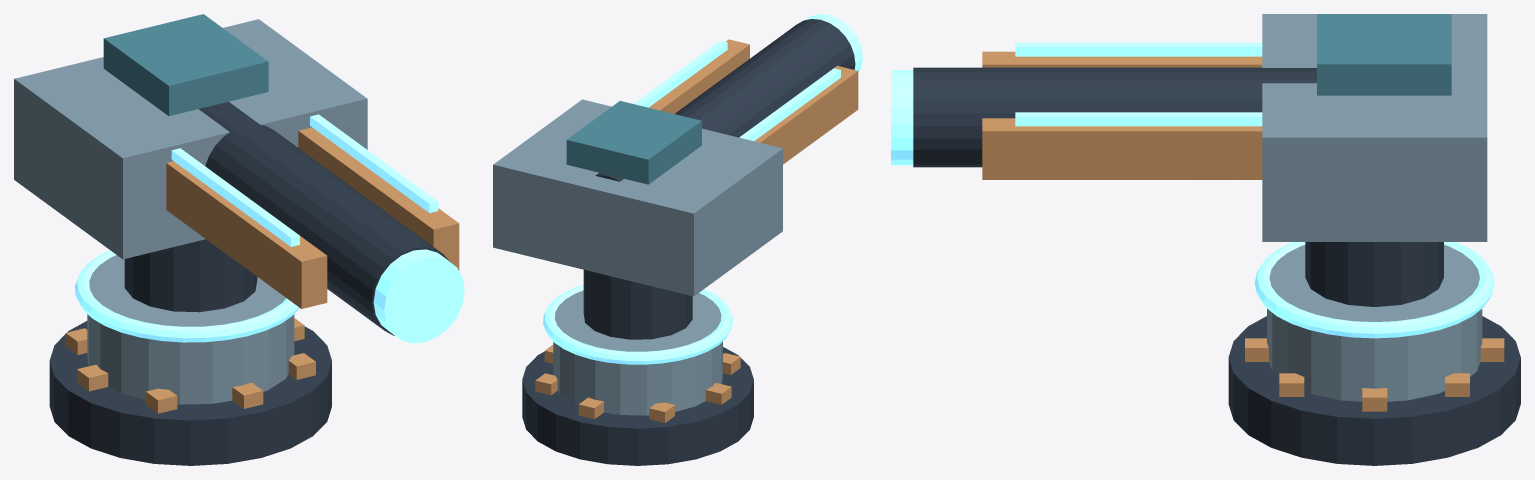
File: rail_lance.glb
The picture shows the model from 3 angles, left to right: view 1: azimuth 30°, elevation 25°; view 2: azimuth 150°, elevation 25°; view 3: azimuth 270°, elevation 25°; orthographic projection. The views are drawn at different scales.
Visible parts, largest first — view 1: Railgun heavy housing, Circular reinforced plinth, Long electromagnetic bore, Titanium center, Arc charge housing, Magnetic focusing rail, Rotating servo head, High energy muzzle, Magnetic focusing rail.001, Charged bearing, Live current, Live current.001 (+5 smaller); view 2: Railgun heavy housing, Circular reinforced plinth, Titanium center, Long electromagnetic bore, Arc charge housing, Rotating servo head, Magnetic focusing rail, Charged bearing, Magnetic focusing rail.001, Live current, Live current.001, High energy muzzle (+4 smaller); view 3: Railgun heavy housing, Long electromagnetic bore, Circular reinforced plinth, Titanium center, Magnetic focusing rail.001, Arc charge housing, Rotating servo head, Charged bearing, Live current, Live current.001, Magnetic focusing rail, High energy muzzle.
Part boxes in pixels (x1,y1,x2,y2): Railgun heavy housing: (14,19,367,259); Circular reinforced plinth: (49,321,331,465); Long electromagnetic bore: (199,101,449,335); Titanium center: (87,255,294,404); Arc charge housing: (103,14,268,115); Magnetic focusing rail: (166,161,327,308); Rotating servo head: (124,239,257,312); High energy muzzle: (373,249,464,343); Magnetic focusing rail.001: (298,127,459,270); Charged bearing: (75,250,299,342); Live current: (171,148,299,246); Live current.001: (310,114,438,212); Railgun heavy housing: (493,99,782,296); Circular reinforced plinth: (522,347,753,465); Titanium center: (553,290,722,415); Long electromagnetic bore: (595,19,855,181); Arc charge housing: (566,101,701,184); Rotating servo head: (583,270,692,339); Magnetic focusing rail: (754,65,858,164); Charged bearing: (543,284,732,364); Magnetic focusing rail.001: (649,39,749,113); Live current: (739,68,840,140); Live current.001: (634,40,727,107); High energy muzzle: (806,14,862,72); Railgun heavy housing: (1262,14,1487,241); Long electromagnetic bore: (913,67,1316,167); Circular reinforced plinth: (1228,316,1520,465); Titanium center: (1267,245,1482,401); Magnetic focusing rail.001: (982,118,1262,179); Arc charge housing: (1317,14,1451,95); Rotating servo head: (1305,242,1443,306); Charged bearing: (1254,242,1494,338); Live current: (1015,42,1262,56); Live current.001: (1015,112,1262,126); Magnetic focusing rail: (982,51,1262,67); High energy muzzle: (891,70,913,165).
Bounding box in the file's own units: 1.52 × 2.09 × 3.28.
